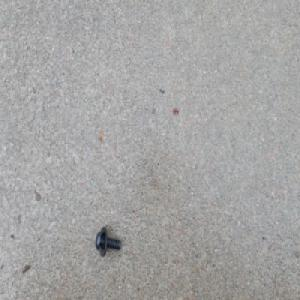BoltWasher: (95, 226, 121, 257)
